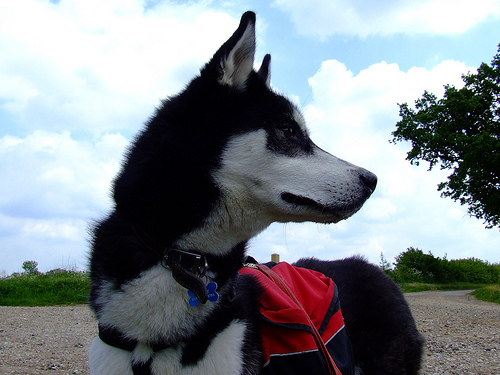dog: (88, 10, 423, 374)
